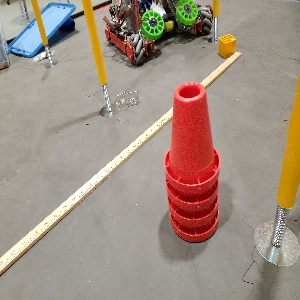Red_4: (161, 79, 225, 246)
